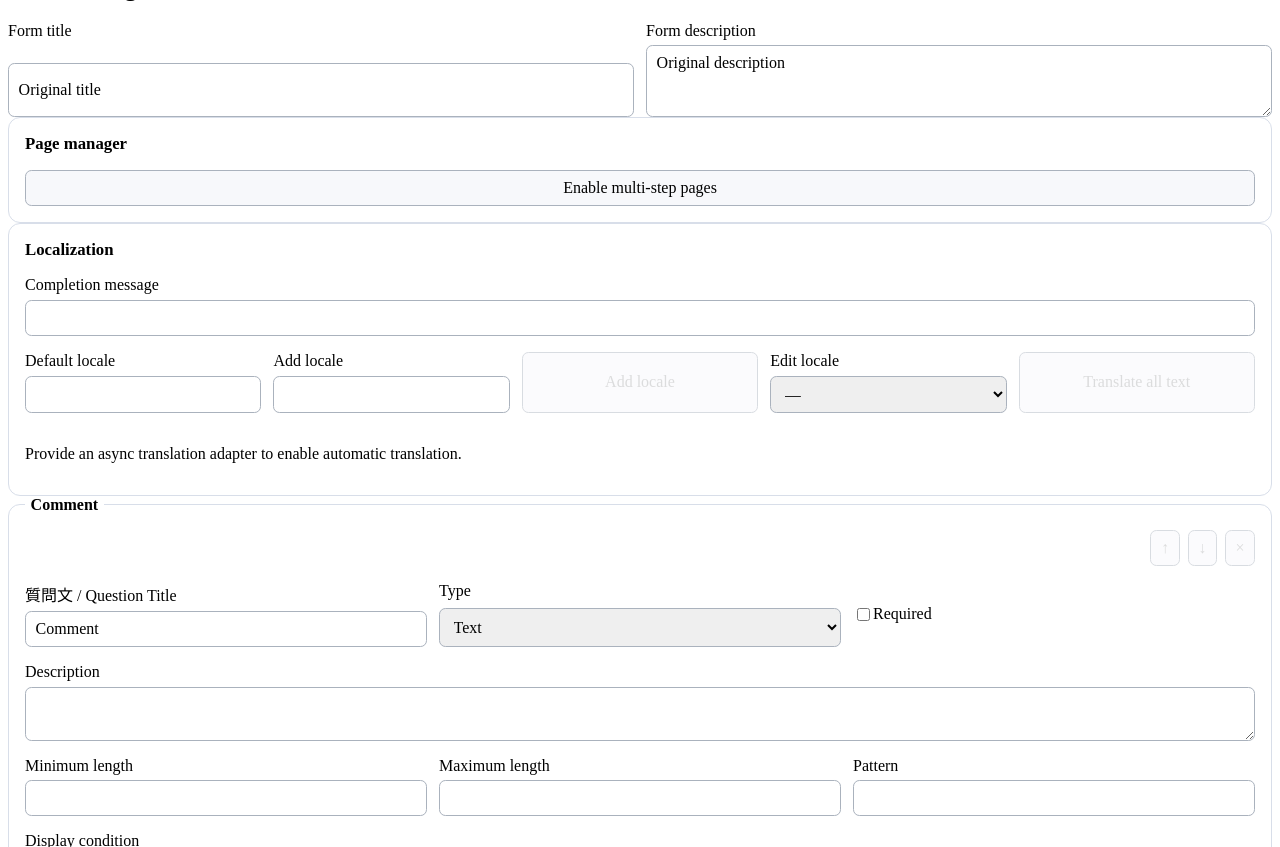
Test: v2.8 React authoring and receipts › edits form source title and description through builder primitives
The width and height of the screenshot is (1280, 847).
Clear the field labelled "Form title". click: (321, 90)
box: [8,63,634,117]
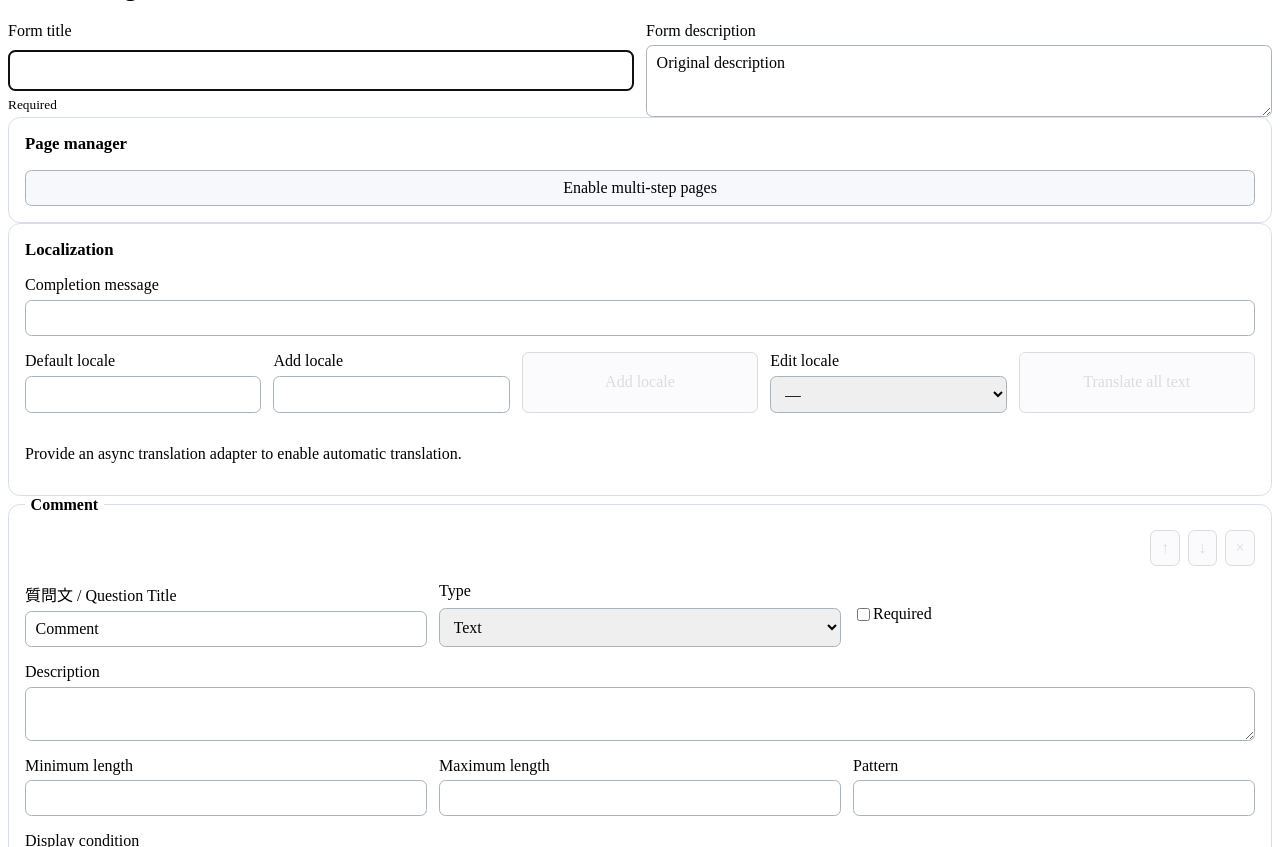
Type "Updated title" into the field labelled "Form title". click: (321, 71)
box: [8,50,634,91]
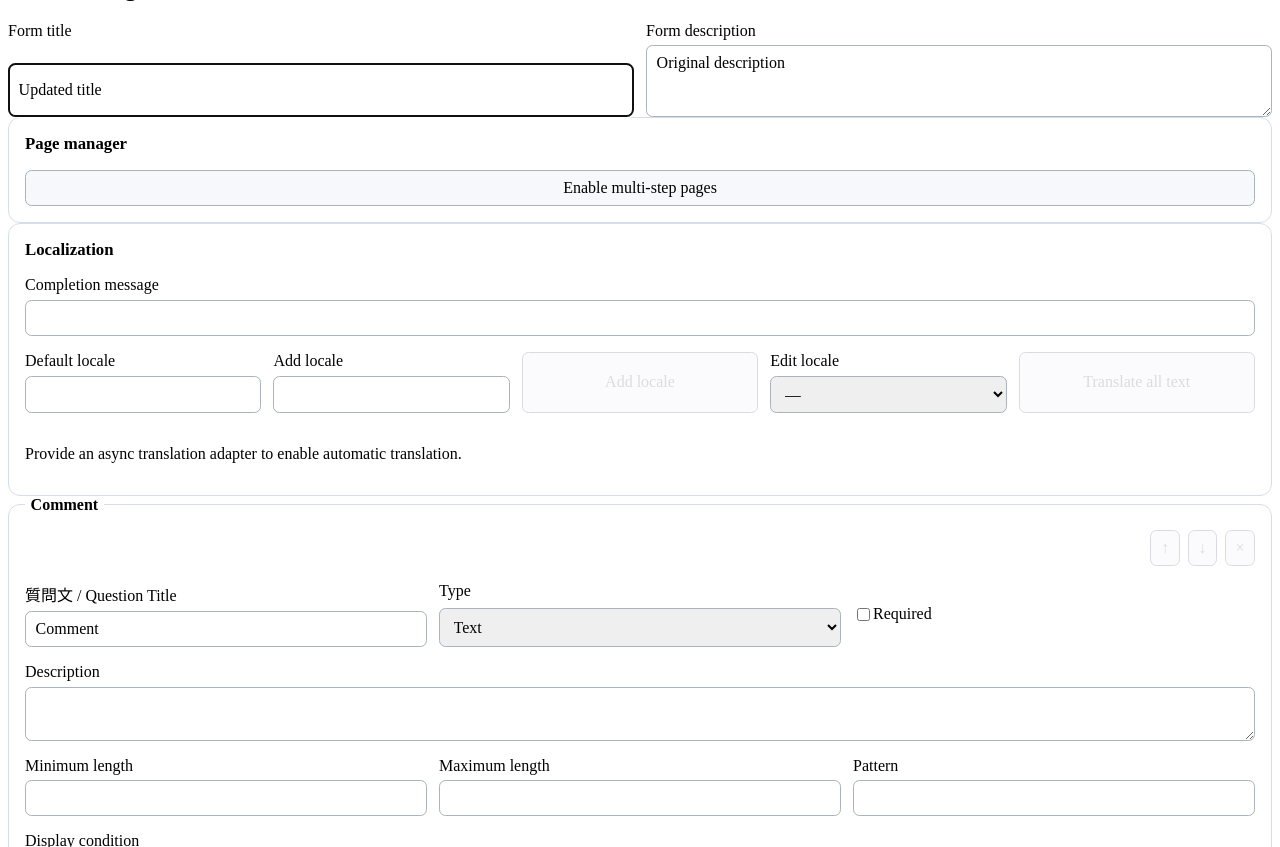
Replace the text in the text box labelled "Form description" with "Updated description". click: (959, 81)
box: [646,45,1272,117]
(page scrolled)
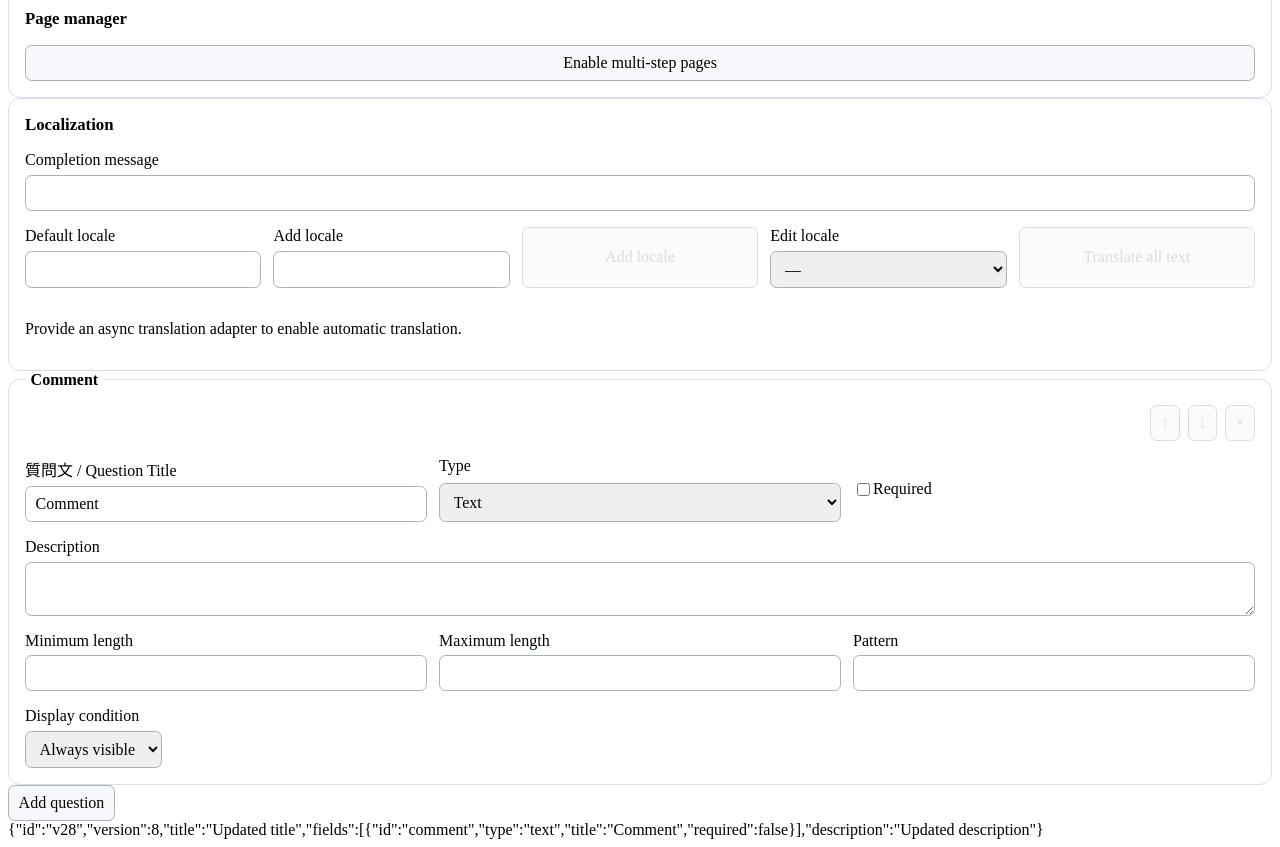
Check: the text with test id "builder-schema" shows "\"title\":\"Updated title\"", box [8,821,1044,838]
Check: the text with test id "builder-schema" shows "\"description\":\"Updated description\"", box [8,821,1044,838]
